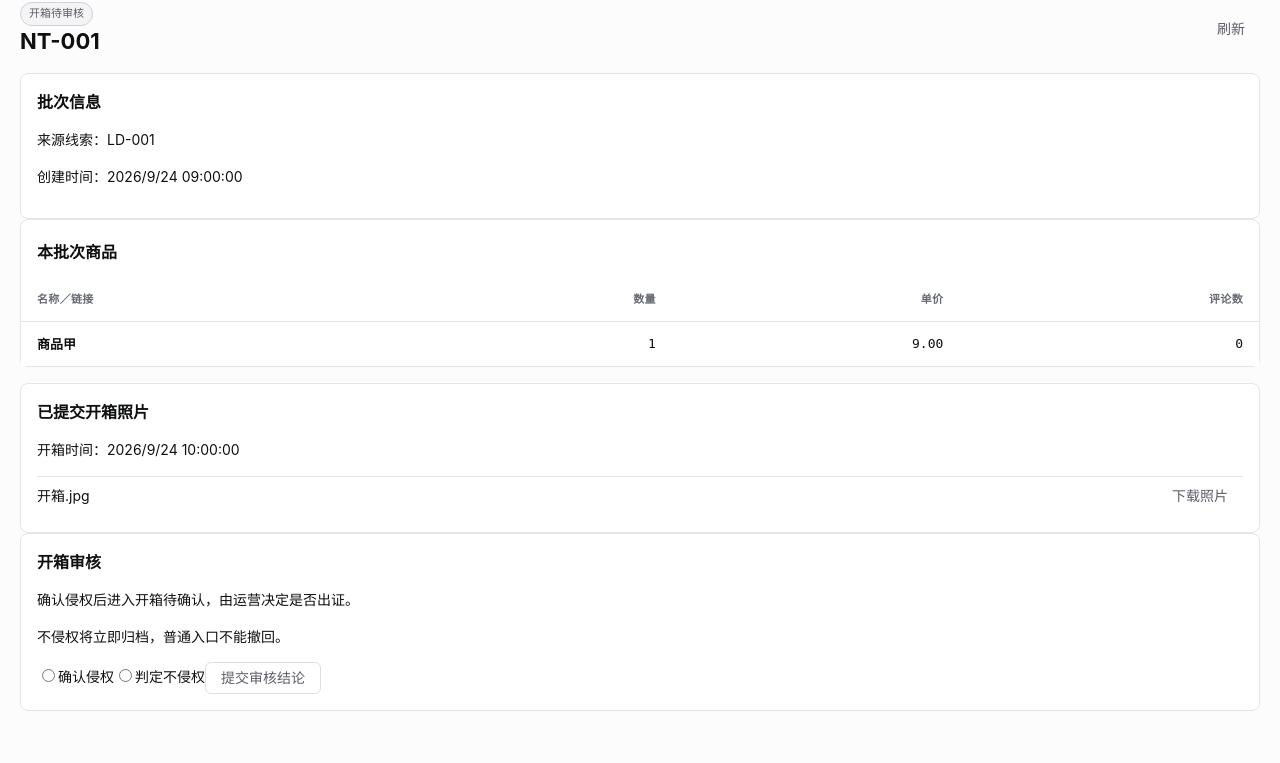
Test: client notary pages › requires the no-infringement reason and persists the selected decision
Click the radio button with test id "client-review-result-no-infringement" at {"x": 126, "y": 675}, box top-left (119, 669), bottom-right (132, 682)
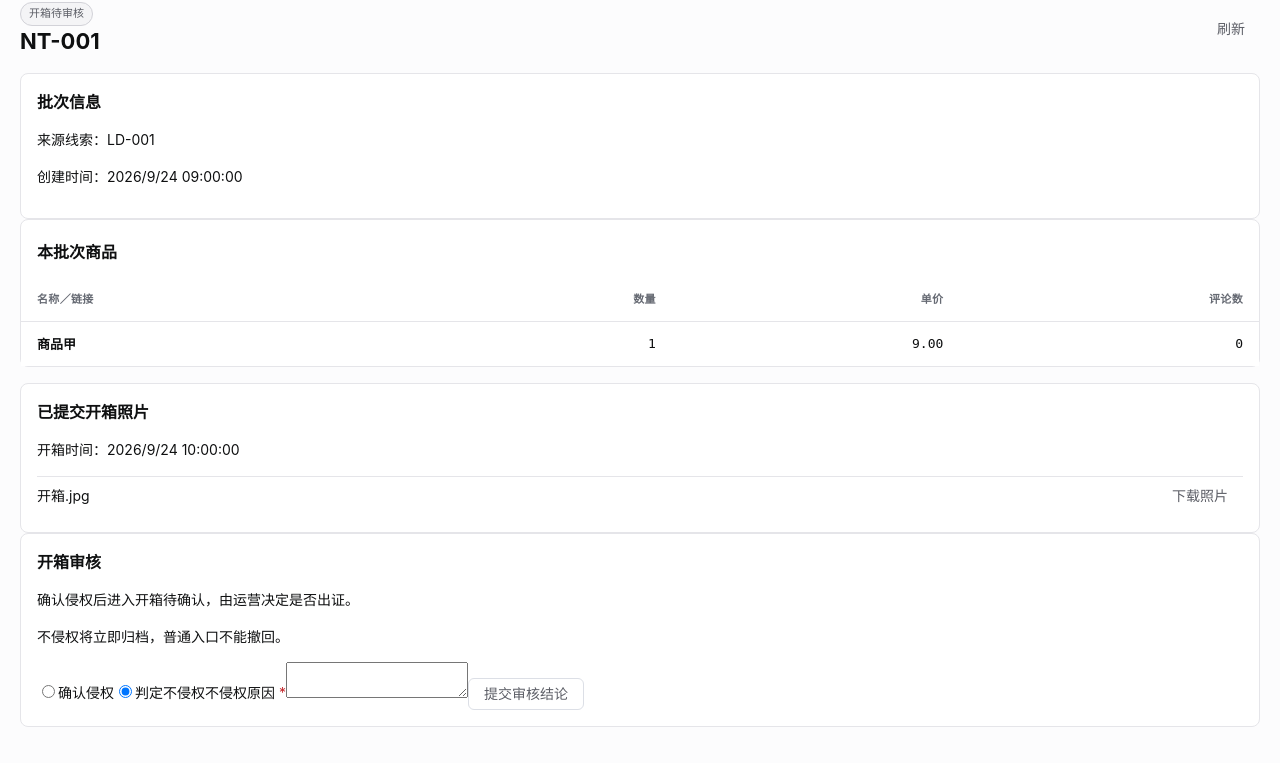
Submit the form with test id "client-opening-review-form", box top-left (37, 591), bottom-right (584, 710)
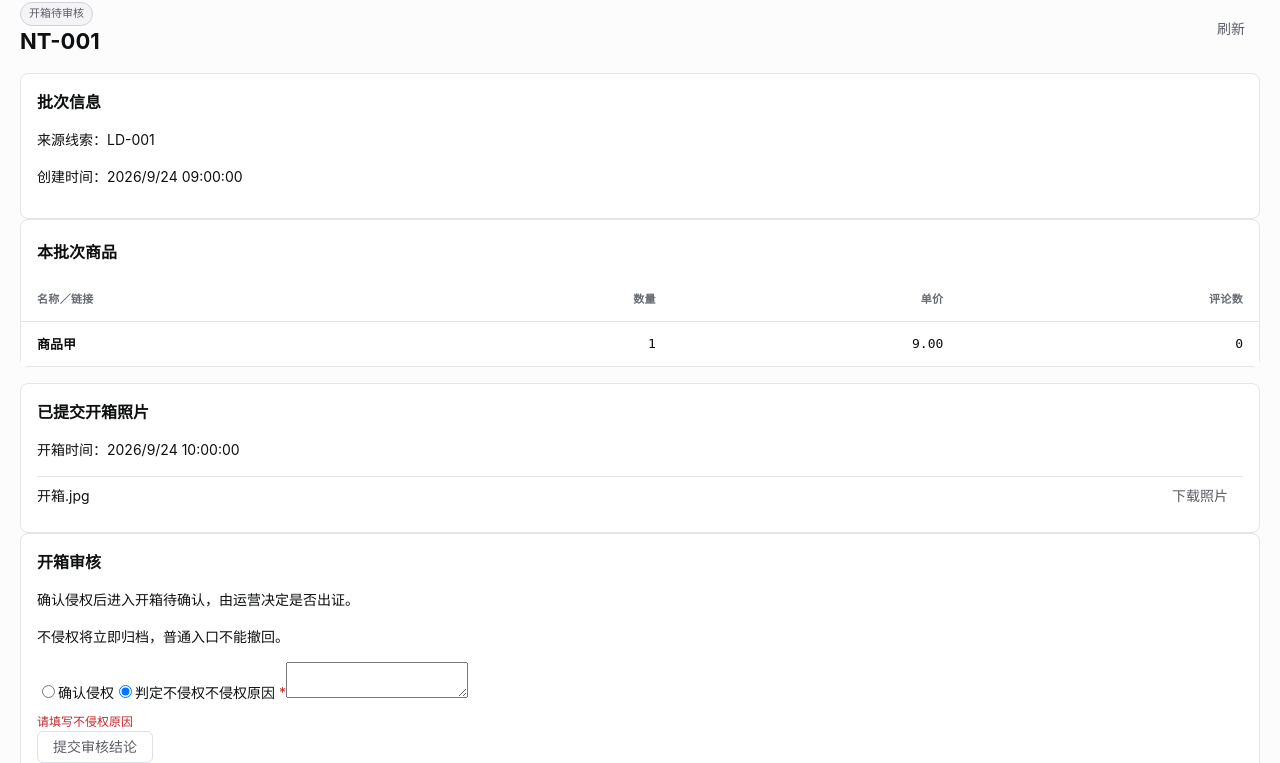
expect the text "请填写不侵权原因" is shown: met, box top-left (37, 714), bottom-right (133, 728)
Type "未发现侵权" into the text box with test id "client-opening-review-reason" at {"x": 377, "y": 680}, box top-left (286, 662), bottom-right (468, 698)
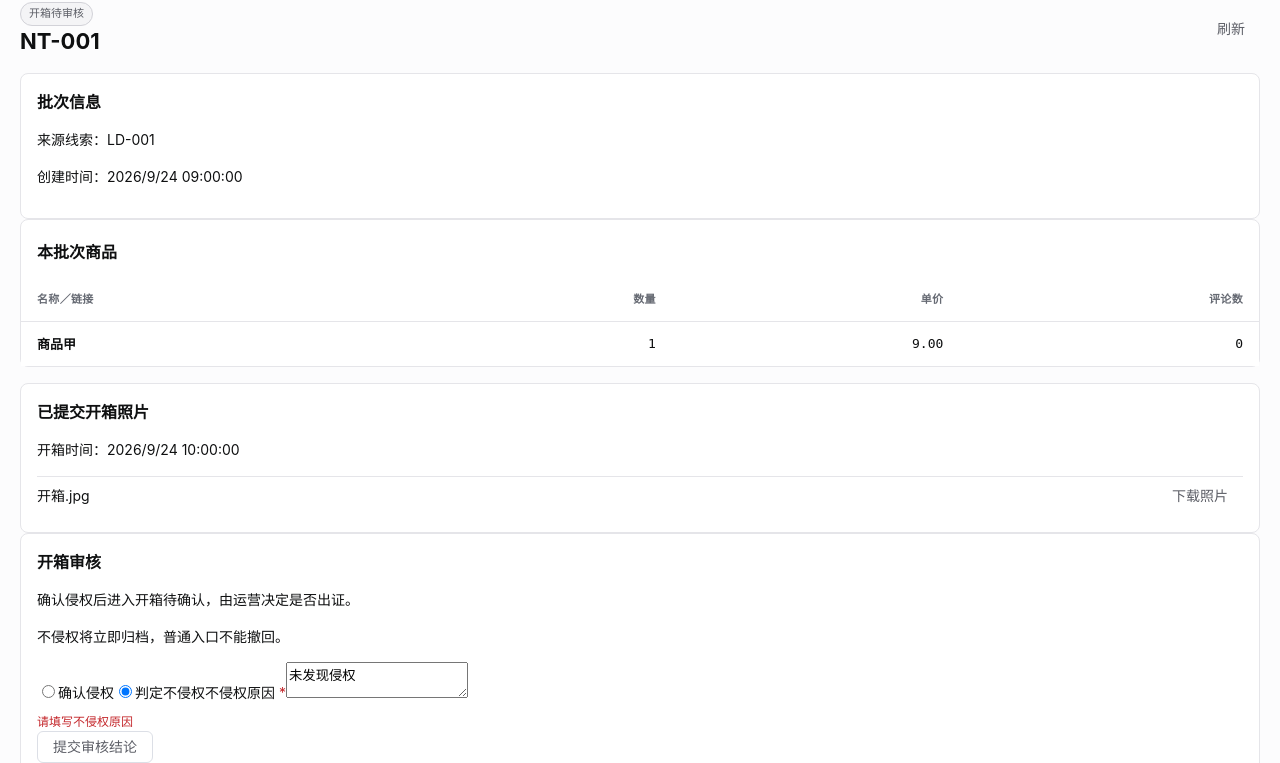
Submit the form with test id "client-opening-review-form", box top-left (37, 591), bottom-right (468, 762)
(page scrolled)
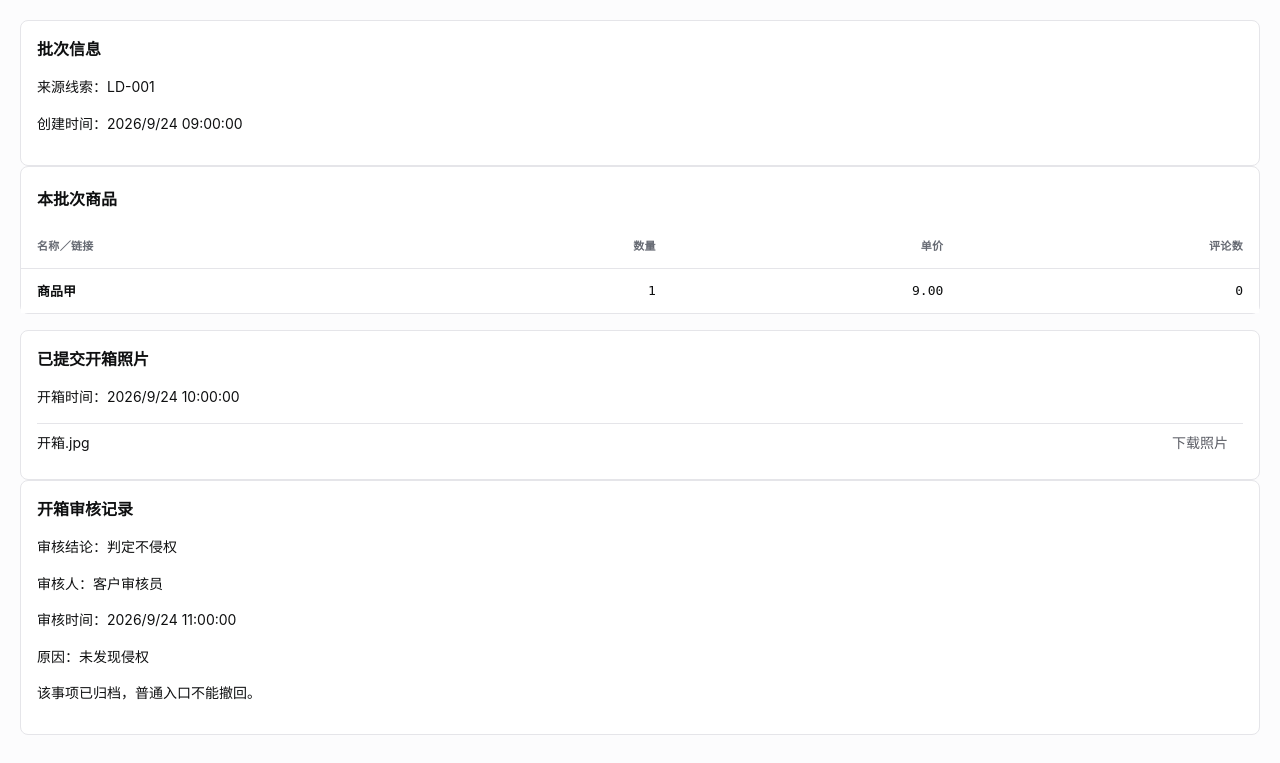
expect the element with test id "client-review-record" shows "未发现侵权": met, box top-left (37, 648), bottom-right (149, 664)
